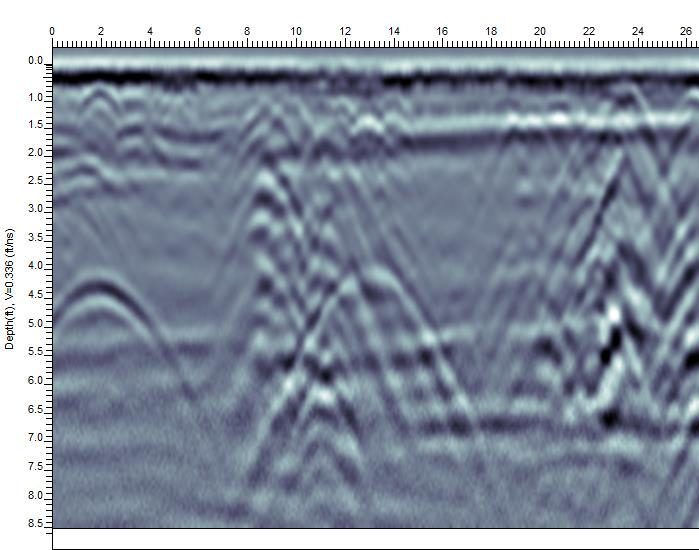hyperbola: (53, 274, 197, 438), (294, 255, 451, 374)
